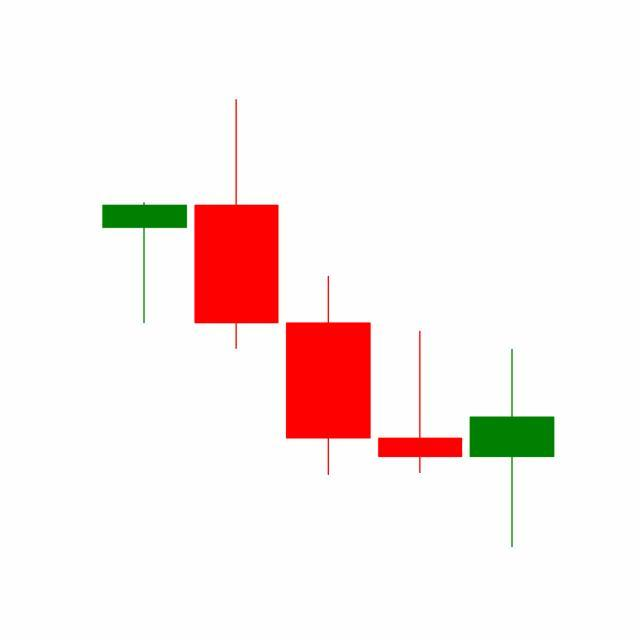Spinning Top: (466, 347, 559, 551)
